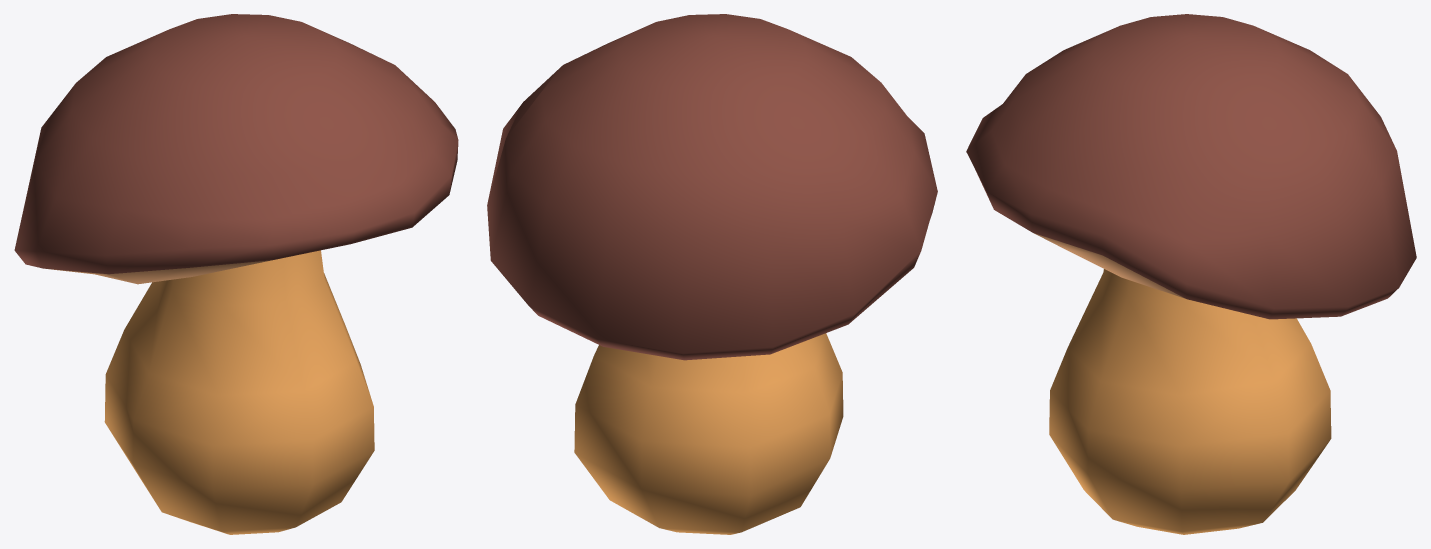
File: Mushroom_02.fbx
The picture shows the model from 3 angles, left to right: view 1: azimuth 30°, elevation 25°; view 2: azimuth 150°, elevation 25°; view 3: azimuth 270°, elevation 25°; orthographic projection.
Parts seen in each view (by area): view 1: Mushroom_02; view 2: Mushroom_02; view 3: Mushroom_02.
Part boxes in pixels (x1,y1,x2,y2): Mushroom_02: (14,14,458,534); Mushroom_02: (487,14,937,534); Mushroom_02: (966,14,1416,534).
Bounding box in the file's own units: 38.3 × 41.06 × 35.62.
